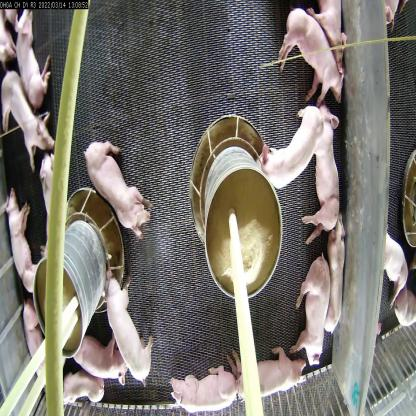Pig: (88, 125, 155, 241), (254, 102, 324, 200), (282, 8, 344, 112), (101, 281, 157, 384), (0, 62, 61, 156), (3, 186, 39, 317), (13, 0, 50, 114), (298, 251, 330, 371), (312, 108, 341, 237), (74, 334, 132, 396), (170, 362, 237, 415), (238, 352, 308, 398), (30, 143, 66, 225), (326, 223, 353, 332), (65, 359, 110, 415), (21, 301, 44, 396)
